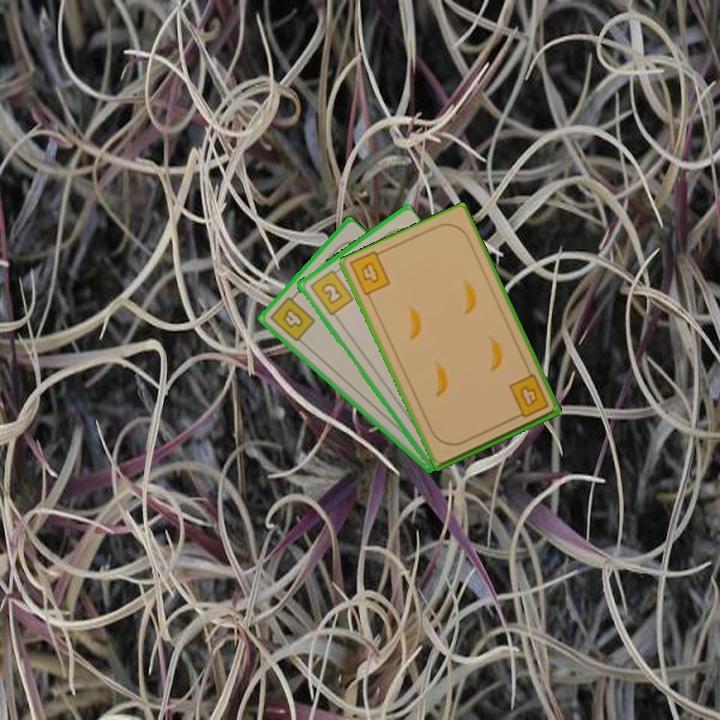2b: (306, 264, 356, 318)
4b: (266, 289, 318, 345), (505, 371, 551, 422), (357, 258, 382, 286)
